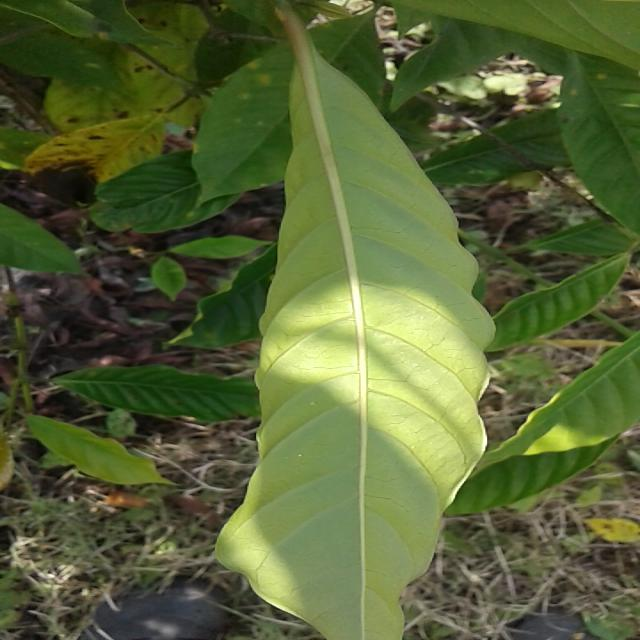Sanas: (216, 6, 497, 640)
